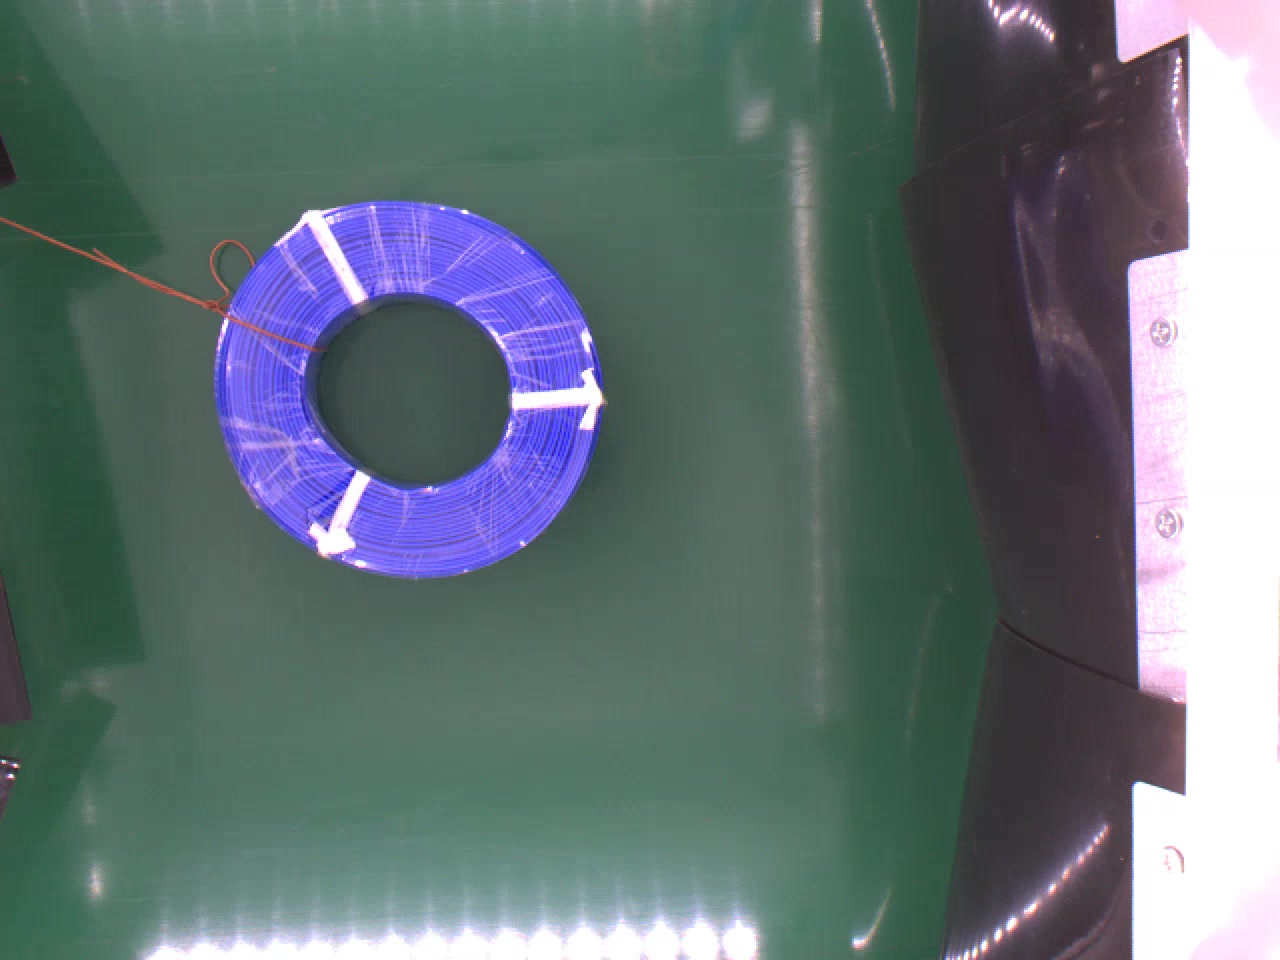blue: (209, 197, 599, 577)
